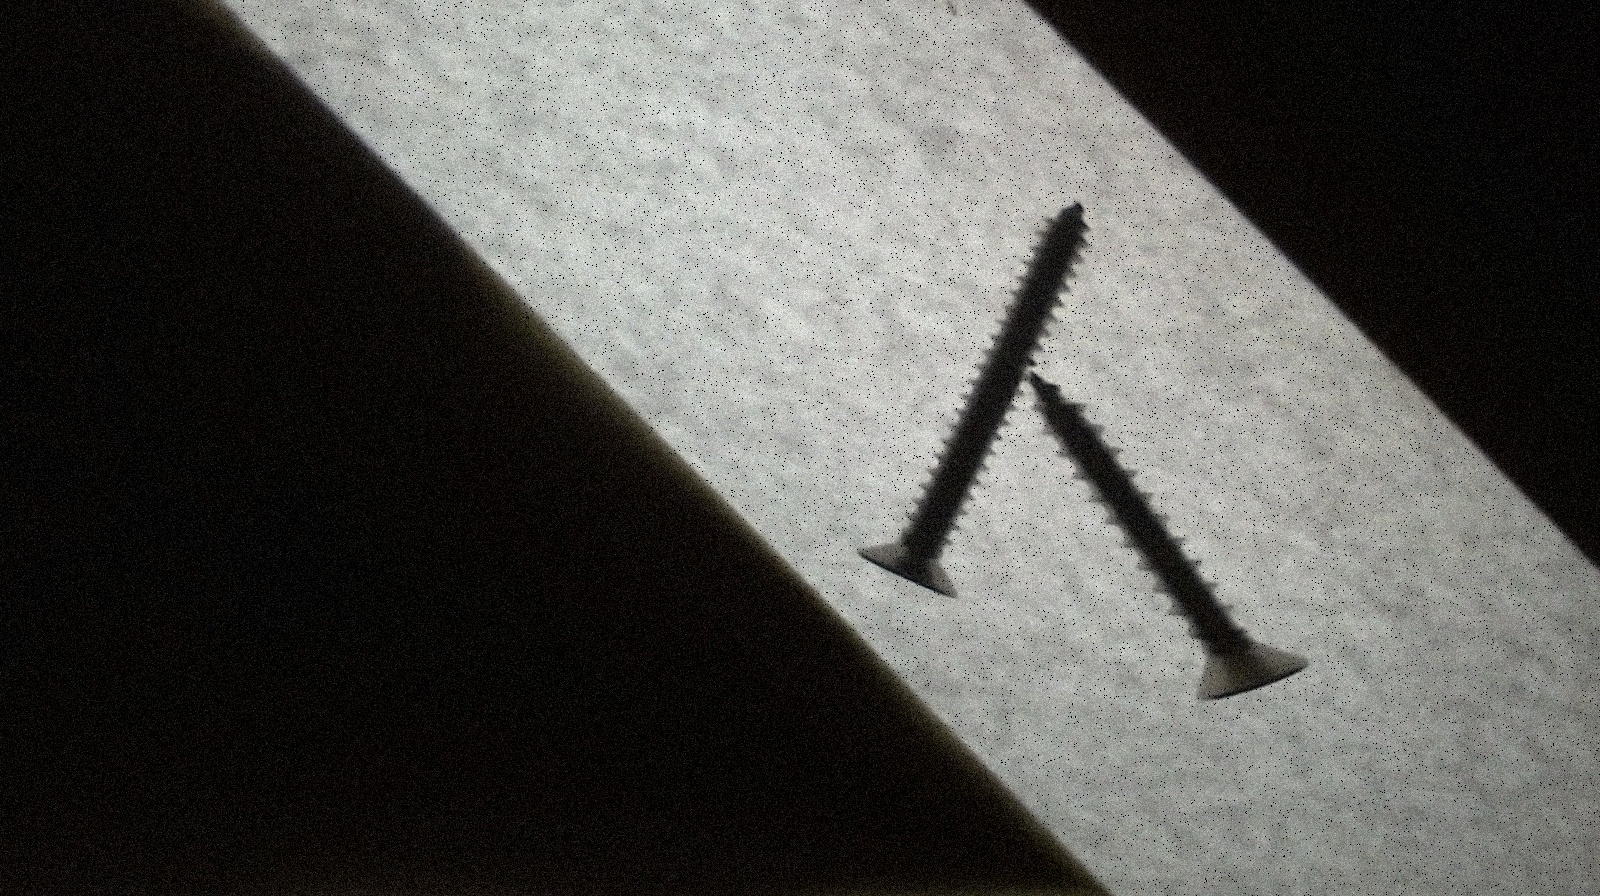S001: (944, 362, 1384, 739)
S002: (834, 155, 1108, 606)
